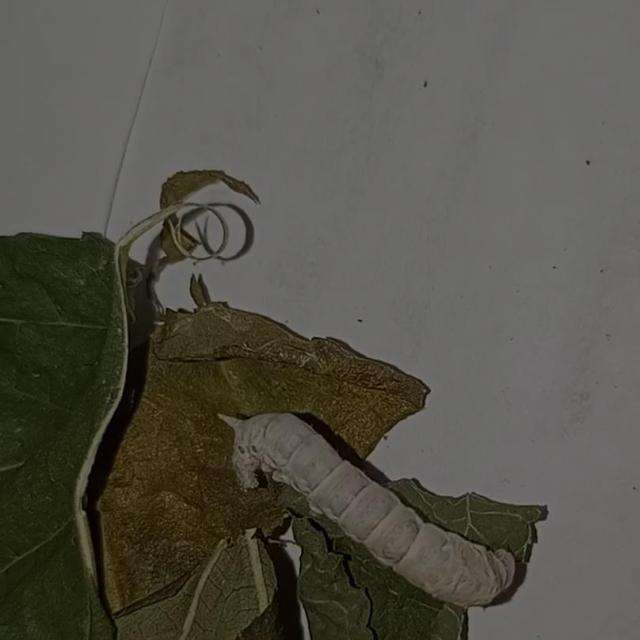Healthy: (195, 395, 526, 617)
